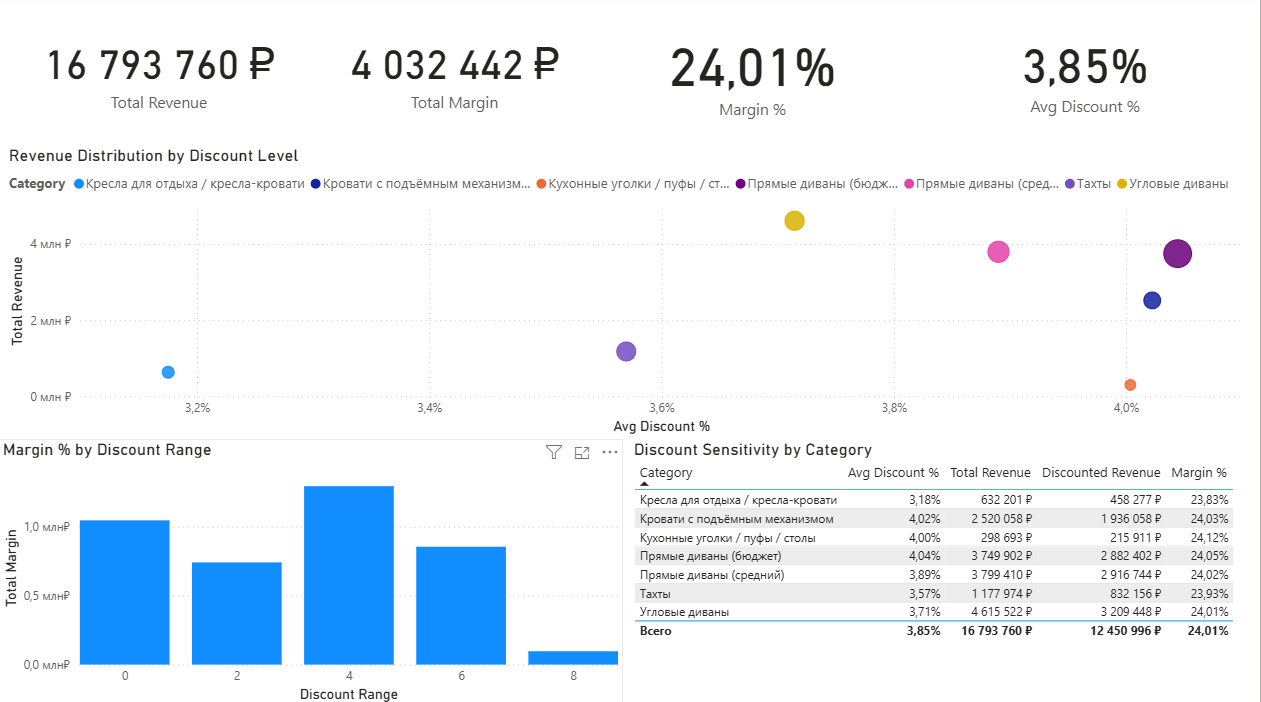

This screenshot's page, from the dashboard's own definition file:
{"tool":"powerbi","page":{"name":"Анализ влияния скидок","canvas":[1280,720],"ordinal":2},"visuals":[{"type":"card","title":"Total Revenue","fields":{"Values":["Меры.Revenue"]},"box":[6.1,0,314.4,150.1],"z":0},{"type":"card","fields":{"Values":["Меры.Margin %"]},"box":[605.5,0,319.5,150.1],"z":1000},{"type":"card","fields":{"Values":["Меры.Avg Discount %"]},"box":[925,0,355,150.1],"z":2000},{"type":"card","fields":{"Values":["Меры.Total Margin"]},"box":[320.5,0,285,150.1],"z":3000},{"type":"scatterChart","title":"Revenue Distribution by Discount Level","fields":{"Y":["Меры.Revenue"],"Size":["Sum(sales.Quantity)"],"Series":["sales.Category"],"X":["Меры.Avg Discount %"]},"box":[6.1,150.1,1273.9,298.2],"z":3001},{"type":"columnChart","title":"Margin % by Discount Range","fields":{"Y":["Меры.Total Margin"],"Category":["sales.DiscountPct (ячейки)"]},"box":[0,448.3,633.9,271.8],"z":3002},{"type":"tableEx","title":"Discount Sensitivity by Category","fields":{"Values":["sales.Category","Меры.Avg Discount %","Меры.Revenue","Меры.Discounted Revenue","Меры.Margin %"]},"box":[640,448.3,640,271.8],"z":3003}]}

Visuals, with their boxes in screenshot pixels (x1, y1, x2, y2), scaled from the page's 1280x720 canvas onto the 1261x702 screenshot:
"Total Revenue" card: [6,0,316,146]
card - Меры.Margin %: [597,0,911,146]
card - Меры.Avg Discount %: [911,0,1260,146]
card - Меры.Total Margin: [316,0,597,146]
"Revenue Distribution by Discount Level" scatterChart: [6,146,1260,437]
"Margin % by Discount Range" columnChart: [0,437,624,701]
"Discount Sensitivity by Category" tableEx: [630,437,1260,701]
